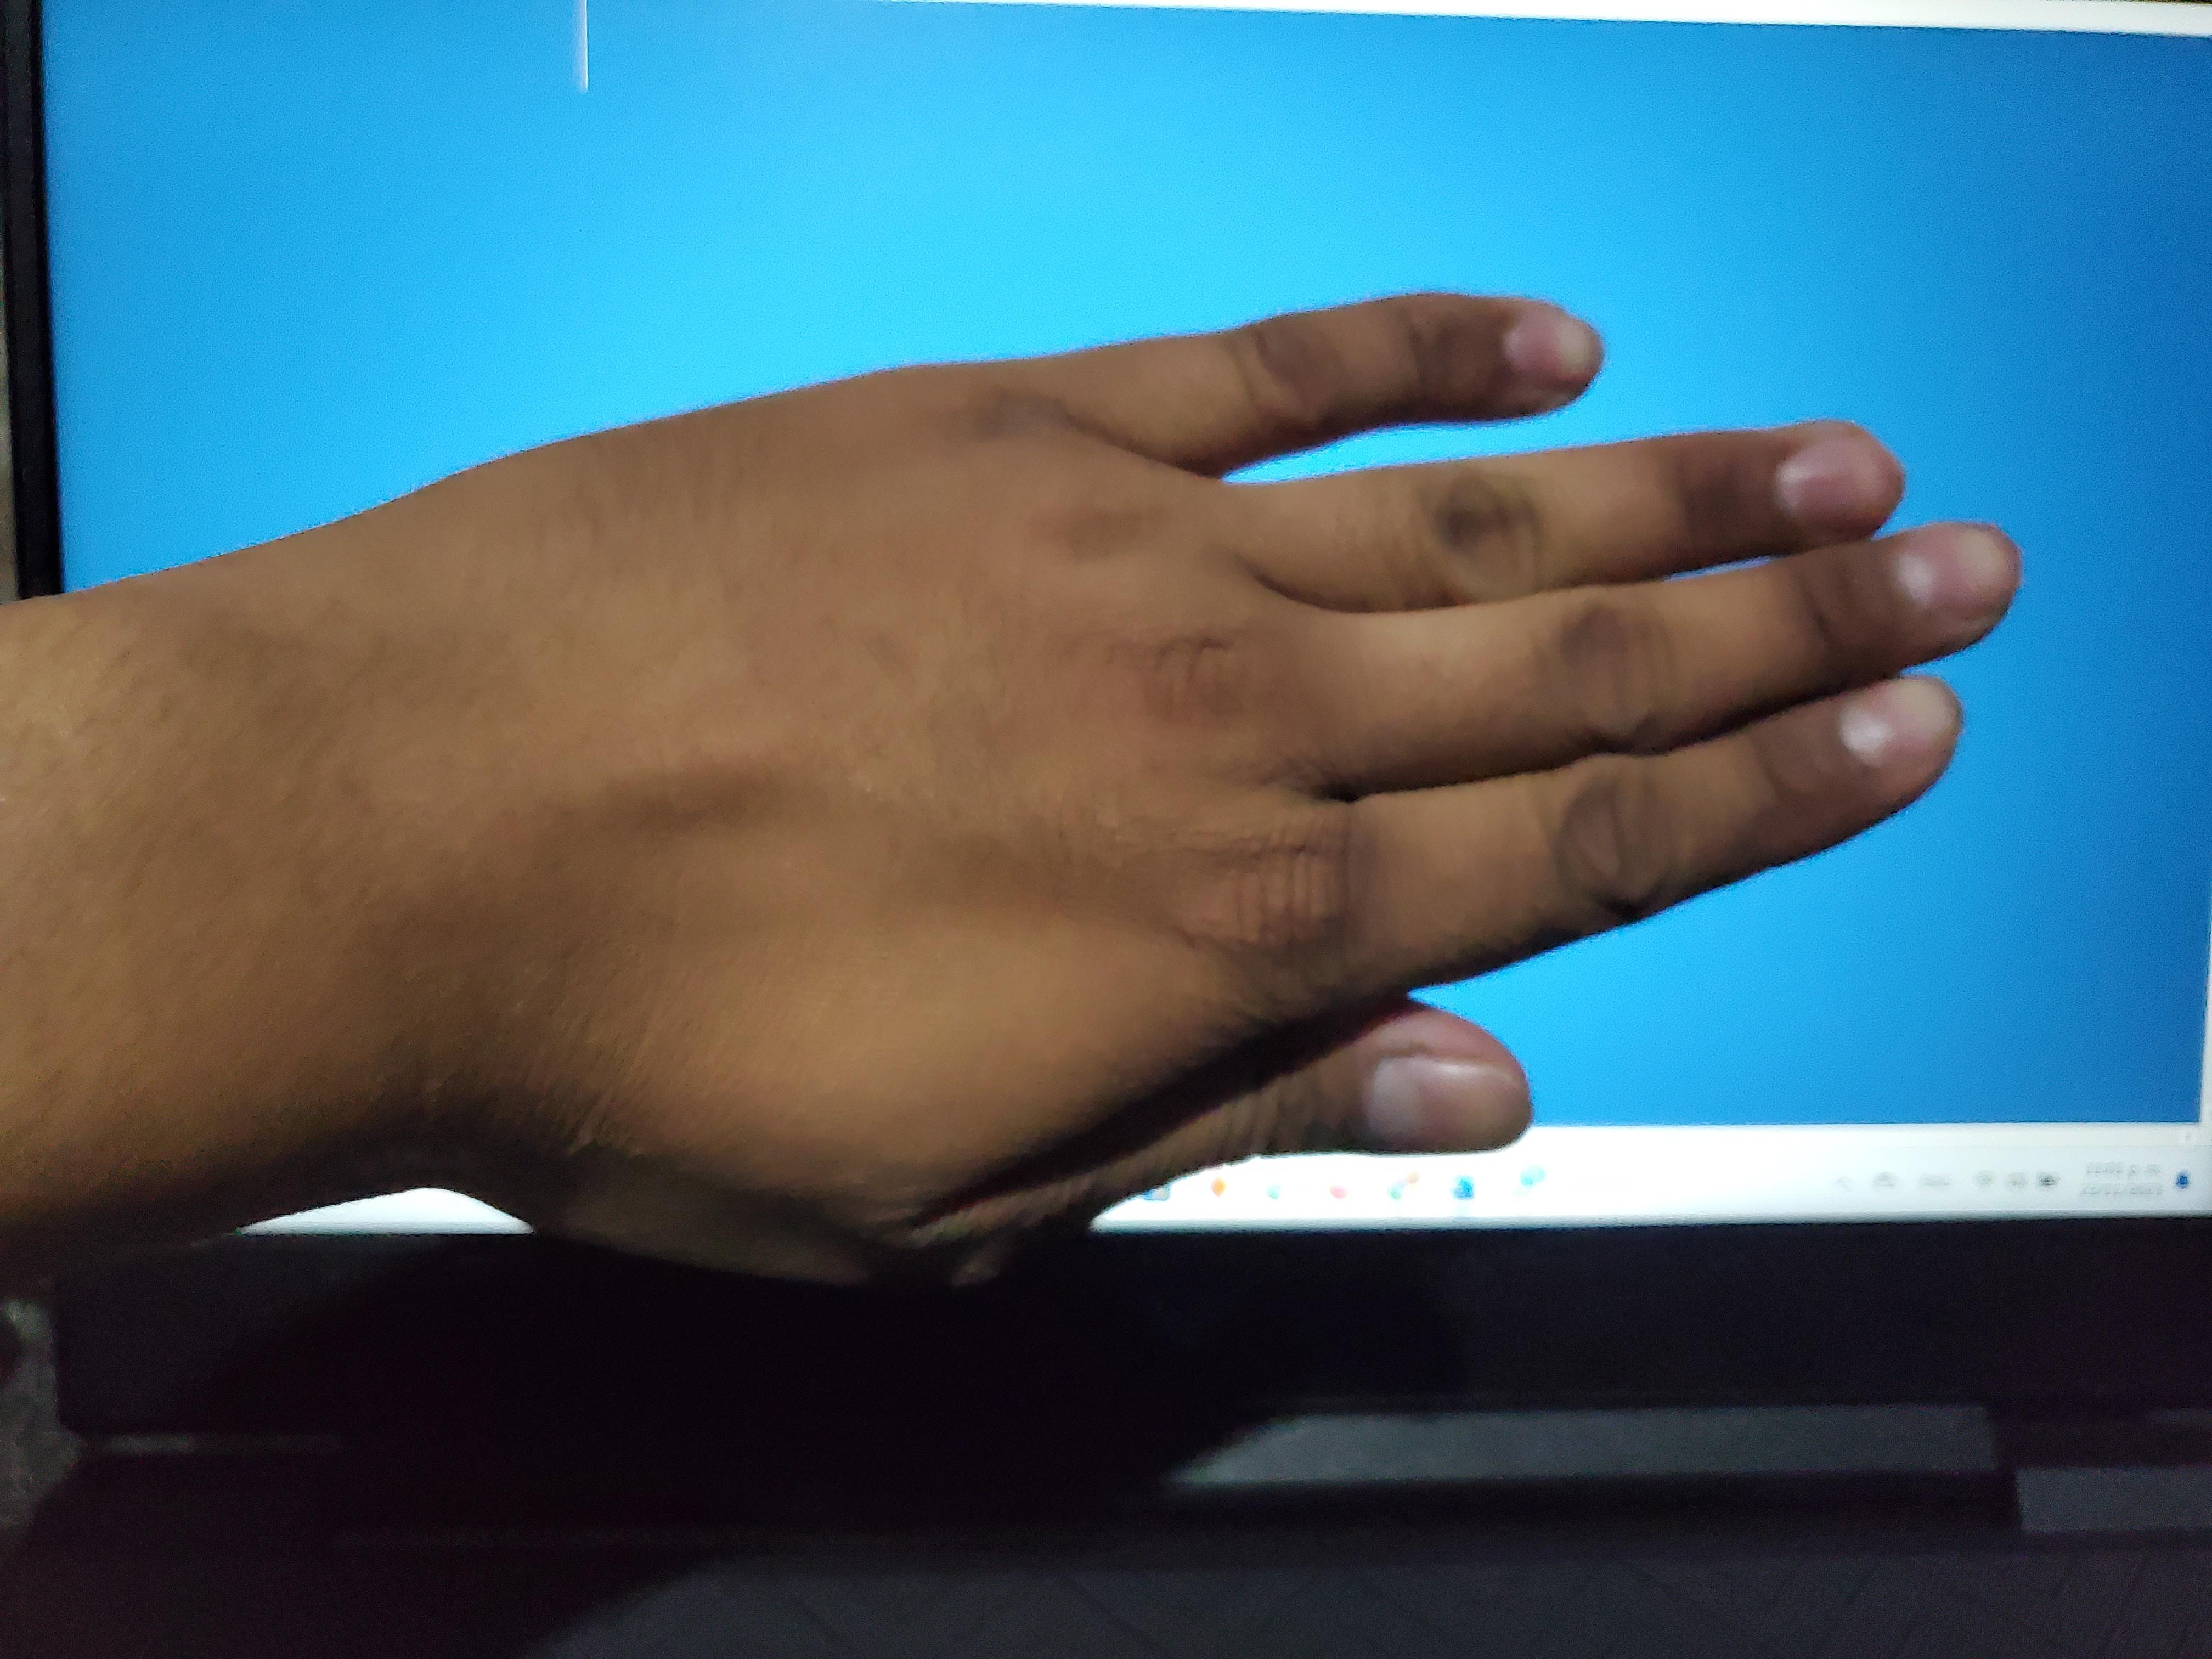Paper: (40, 28, 2128, 1466)
